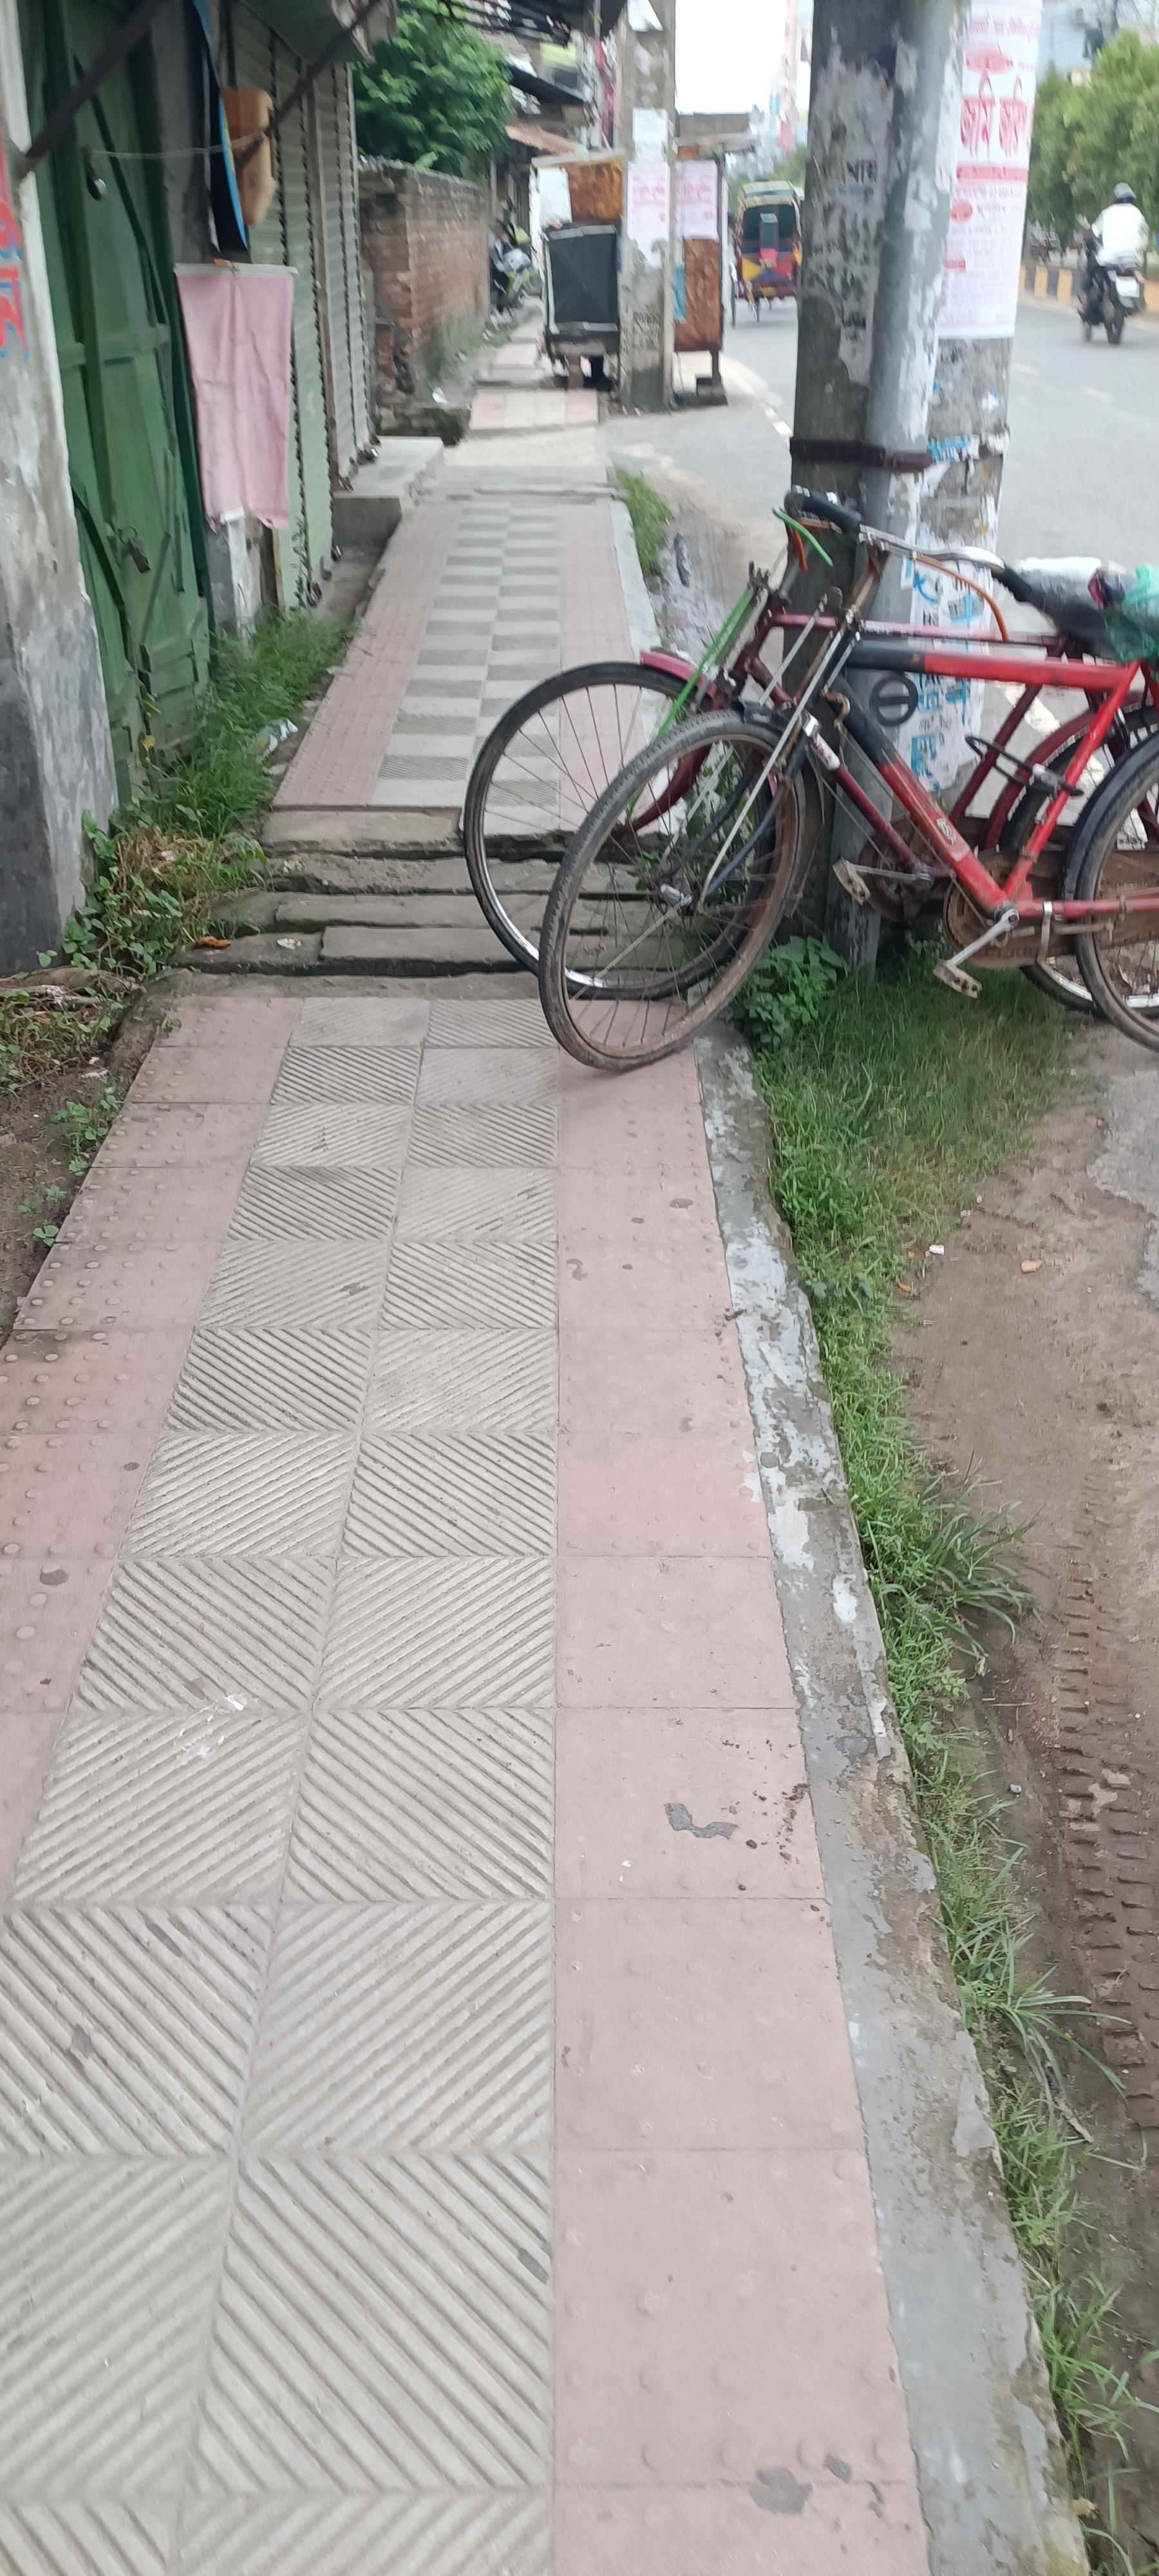Fallen-tree: (1074, 222, 1146, 343)
Garbage-bin: (1087, 181, 1152, 315)
Pothole: (348, 342, 747, 2382)
Traffic-cone: (496, 465, 1148, 1076), (732, 179, 803, 301)
